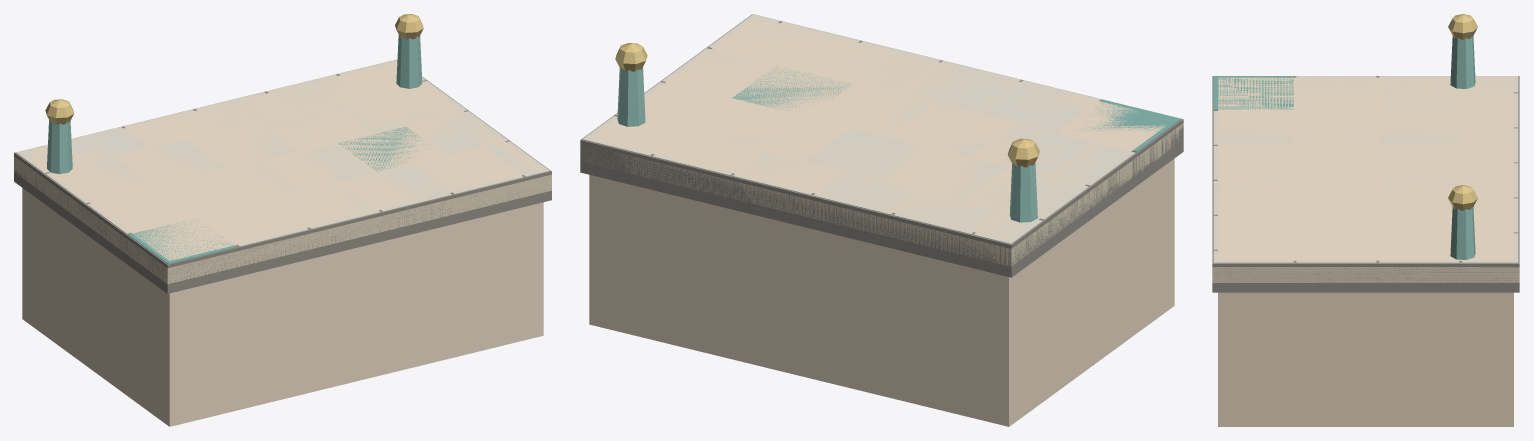
File: ClockTowerTerraceStep03.glb
3 views of the same model, side by side, from view 1: azimuth 30°, elevation 25°; view 2: azimuth 150°, elevation 25°; view 3: azimuth 270°, elevation 25° (orthographic). The views are drawn at different scales.
Parts seen in each view (by area): view 1: ClockTowerTerraceStep03; view 2: ClockTowerTerraceStep03; view 3: ClockTowerTerraceStep03.
Part boxes in pixels (<box>): ClockTowerTerraceStep03: <box>14,14,551,426</box>; ClockTowerTerraceStep03: <box>580,14,1183,426</box>; ClockTowerTerraceStep03: <box>1212,14,1519,426</box>.
Size of the model in its own units: 3.76 by 2.19 by 2.6.
